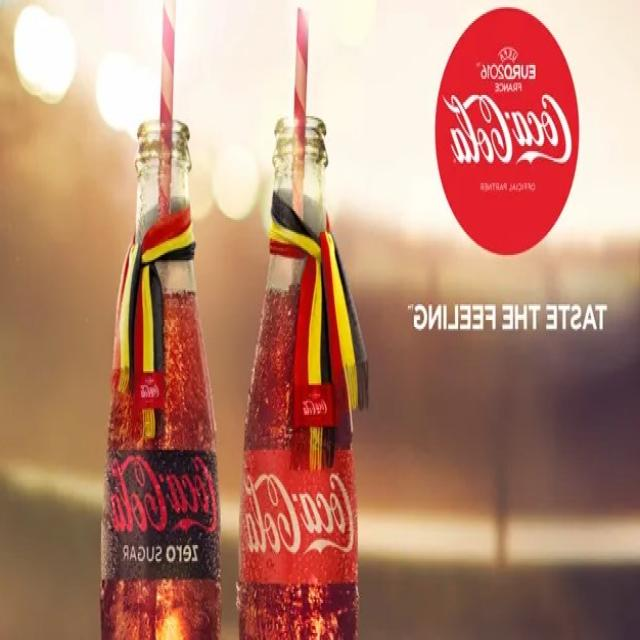coca cola: (440, 89, 578, 172)
